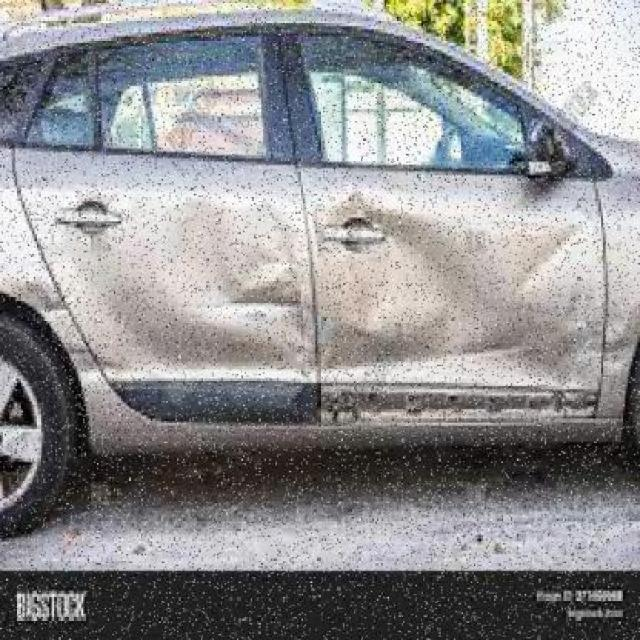car damage: (306, 197, 474, 357), (71, 260, 179, 369), (224, 275, 309, 358)
